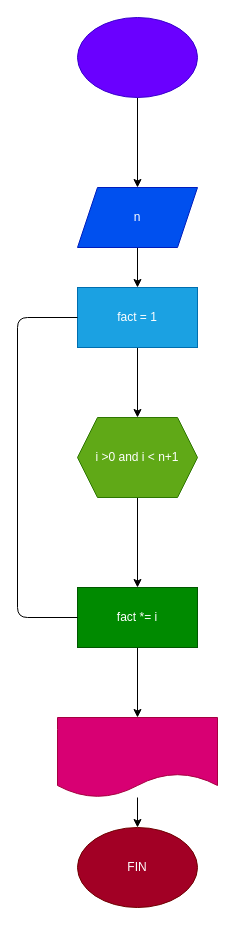
Image size: 235x925. Some labels were removed from this diagram. Each missing label, with the box of its shape:
INICIO: (76, 16, 198, 98)
rta = factorial de n es = fact: (56, 716, 218, 798)
